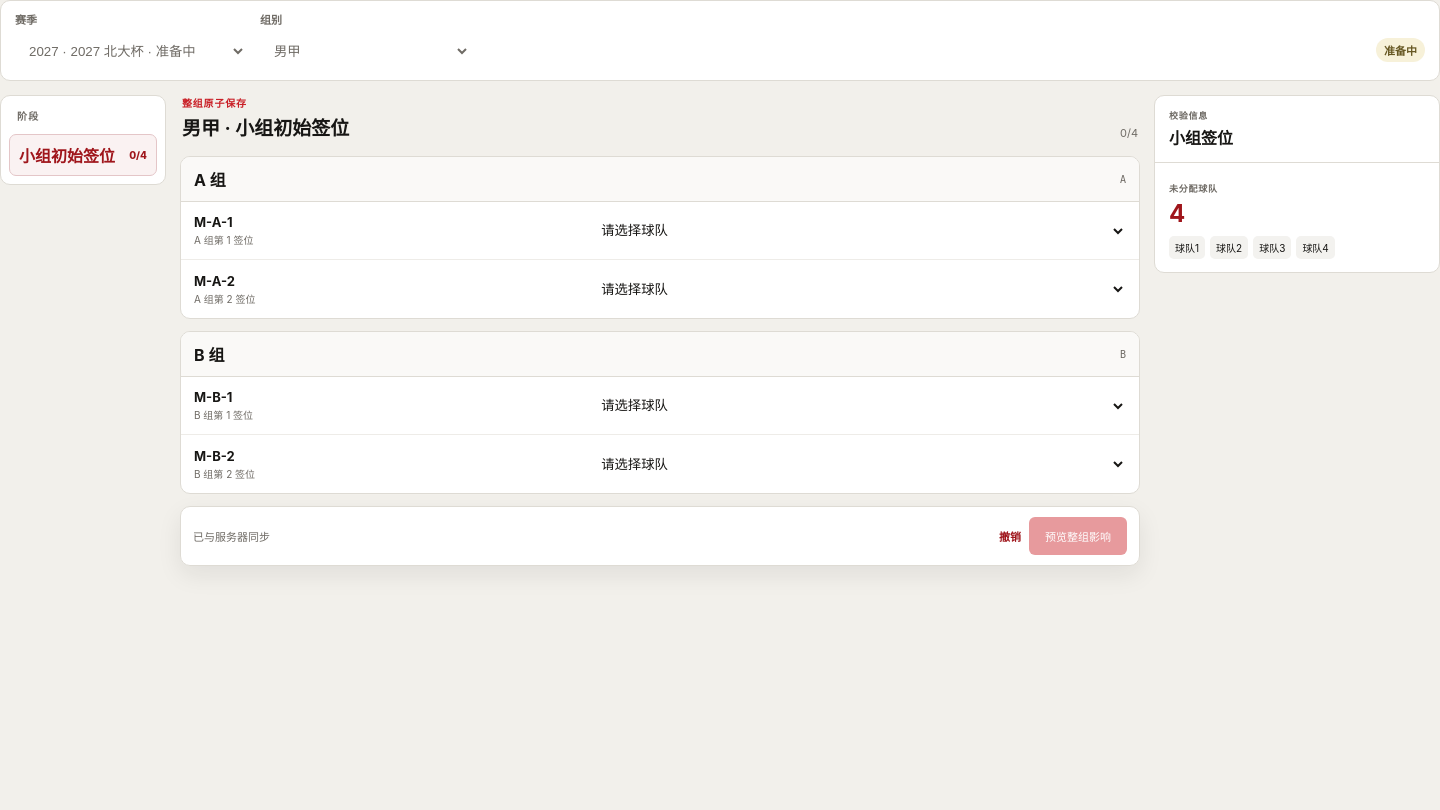
Test: DrawMappingPage › clears group dirty state when a slot is restored to its server value
This screenshot has width=1440, height=810.
Check: the text "已与服务器同步" is shown, box [193,528,270,544]
Step 1. Select "球队1" in the dropdown named "M-A-1 对应球队" → (857, 230), box [587,212,1126,250]
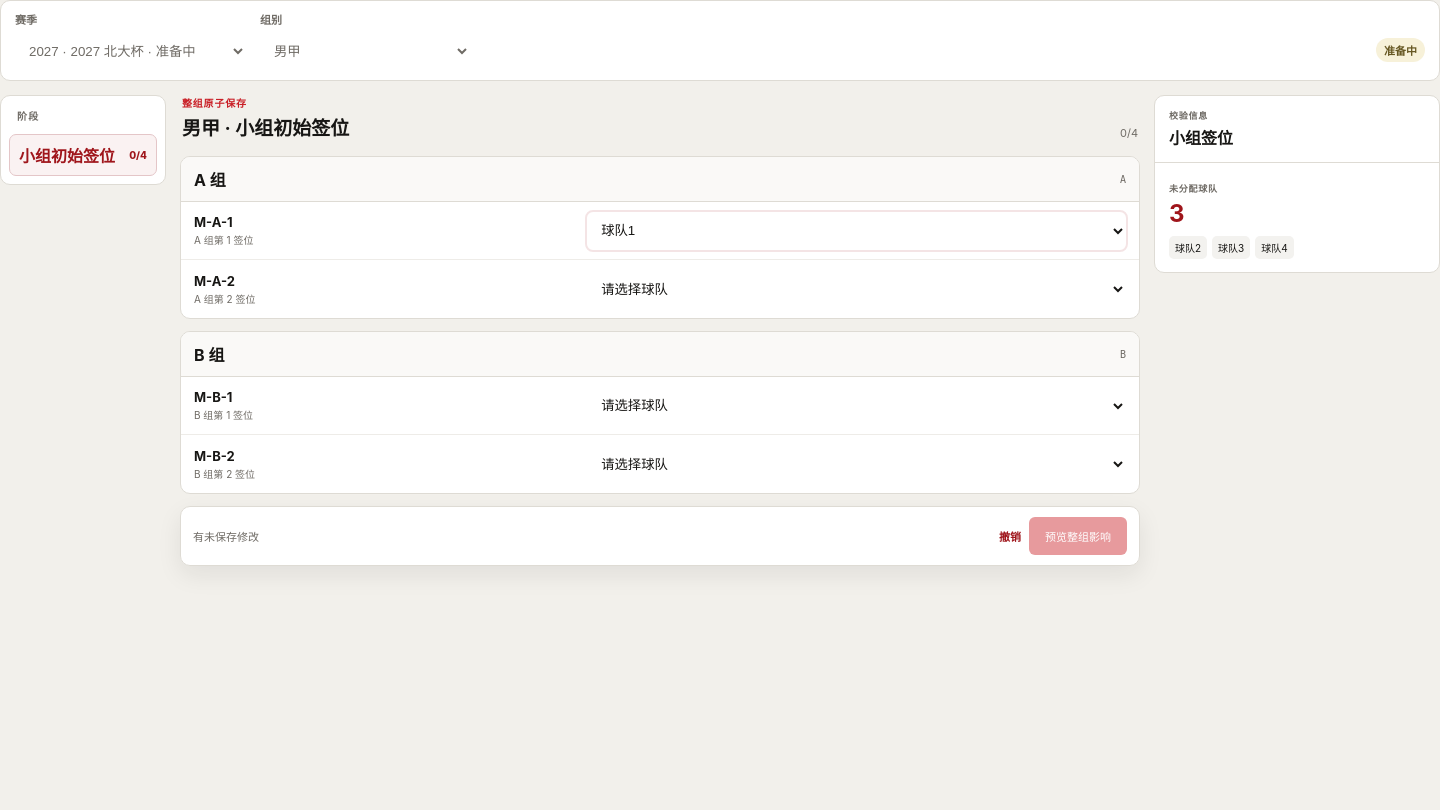
Check: the text "有未保存修改" is shown, box [193,528,259,544]
Step 2. Select "请选择球队" in the dropdown named "M-A-1 对应球队" → (857, 230), box [587,212,1126,250]
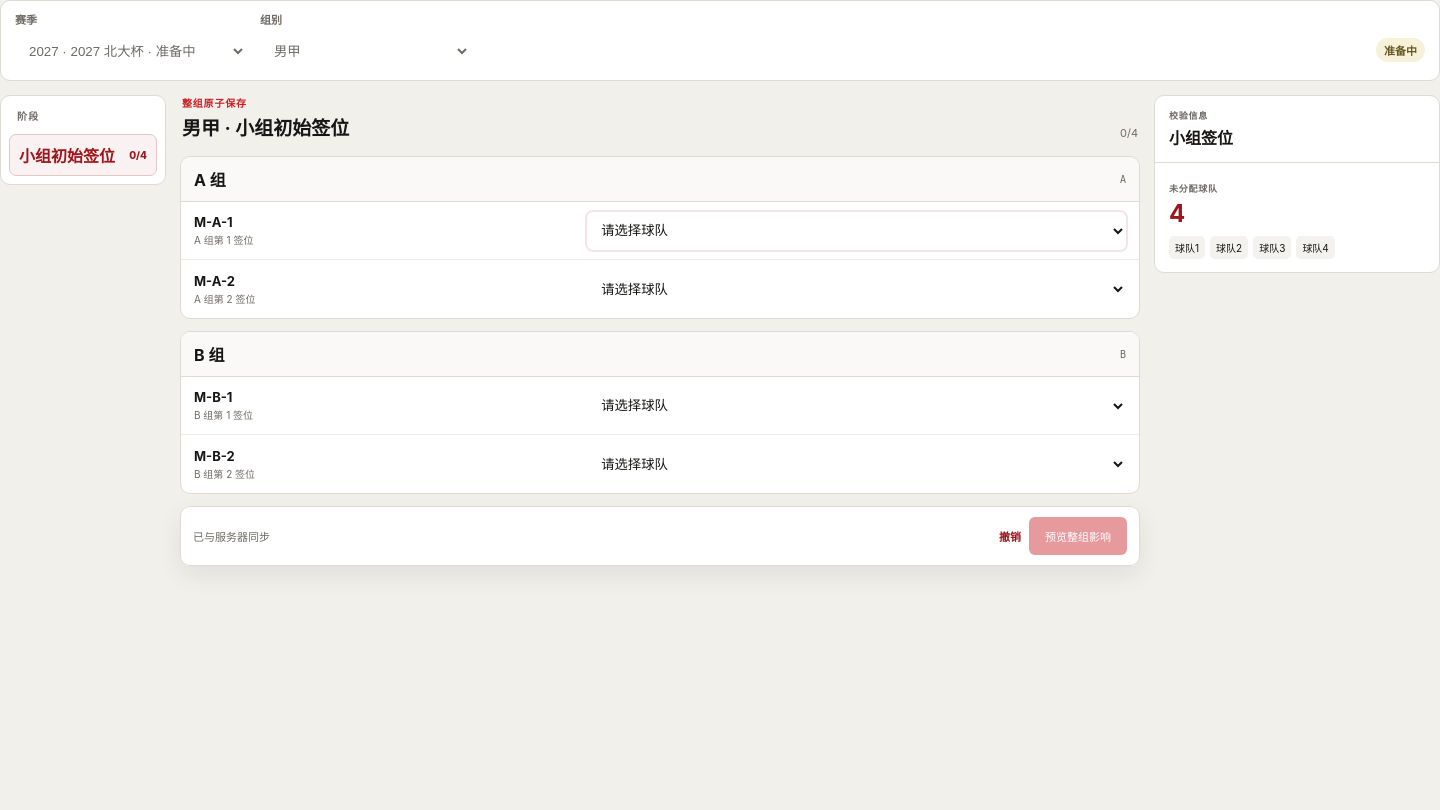
Check: the button "撤销" is disabled, box [999,517,1021,555]
Check: the text "已与服务器同步" is shown, box [193,528,270,544]
